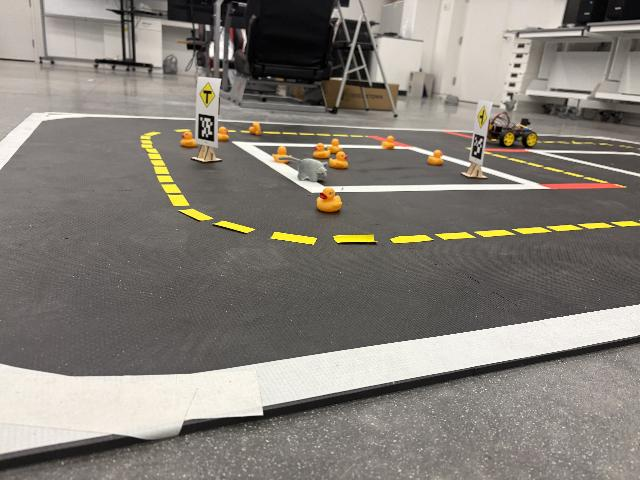duck: (314, 187, 344, 213), (329, 152, 349, 169), (272, 146, 292, 163), (312, 143, 331, 159), (180, 131, 198, 147), (427, 149, 443, 166), (327, 138, 342, 154), (249, 121, 263, 136), (381, 136, 395, 150), (218, 126, 230, 142)
l_intersection: (477, 105, 487, 129)
mouse: (278, 154, 327, 183)
redline: (540, 183, 625, 190)
t_intersection: (200, 82, 216, 107)
whiteline: (2, 305, 640, 458), (409, 147, 542, 185), (232, 142, 326, 193), (0, 112, 48, 172), (311, 184, 552, 194), (232, 141, 420, 148)
yellowline: (332, 219, 640, 245), (465, 146, 627, 188), (178, 208, 318, 245), (141, 132, 190, 206), (173, 127, 367, 138)
